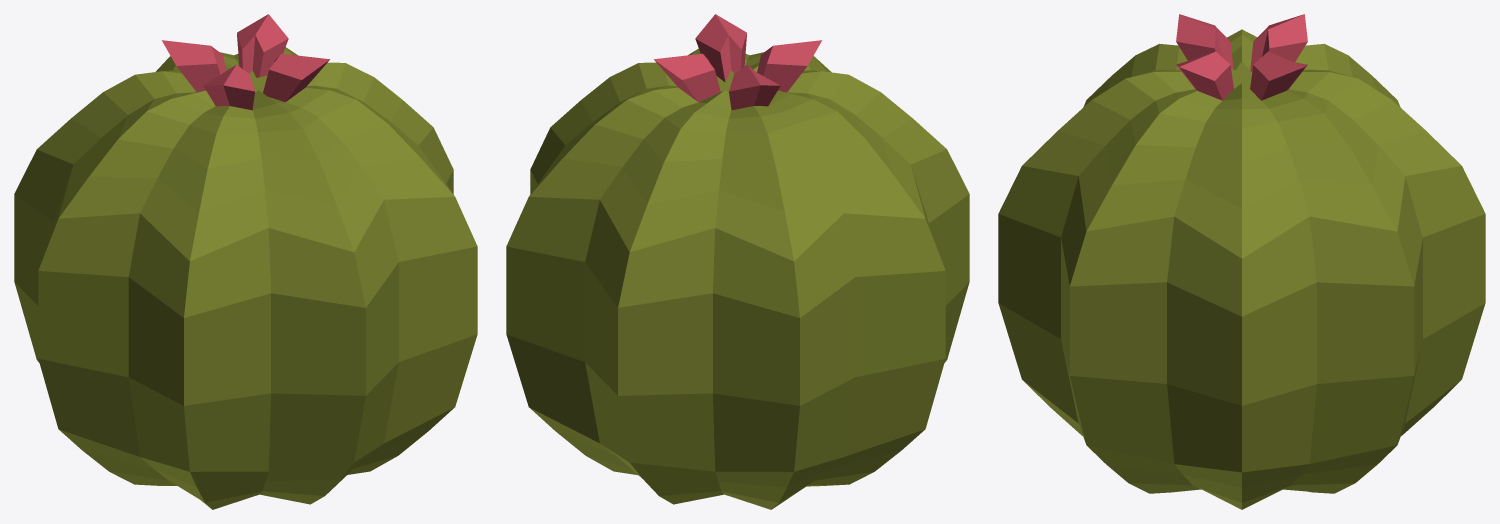
File: PetitCactus.fbx
3 renders of one model, left to right at view 1: azimuth 30°, elevation 25°; view 2: azimuth 150°, elevation 25°; view 3: azimuth 270°, elevation 25°, orthographic.
Parts seen in each view (by area): view 1: PetitCactus; view 2: PetitCactus; view 3: PetitCactus.
Part boxes in pixels (<box>): PetitCactus: <box>14,14,477,509</box>; PetitCactus: <box>506,14,969,509</box>; PetitCactus: <box>998,14,1485,509</box>.
Size of the model in its own units: 84.26 by 84.26 by 80.58.
